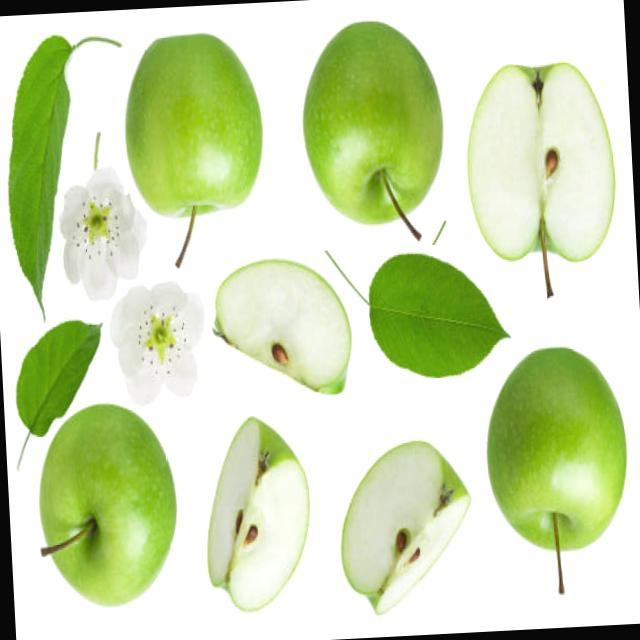Green Apple: (21, 18, 627, 616), (325, 251, 510, 378), (341, 440, 471, 615), (207, 416, 311, 613), (213, 258, 353, 395)
Red Apple: (467, 61, 616, 297), (487, 346, 628, 594), (125, 32, 263, 268), (303, 20, 444, 240), (39, 403, 177, 607)
